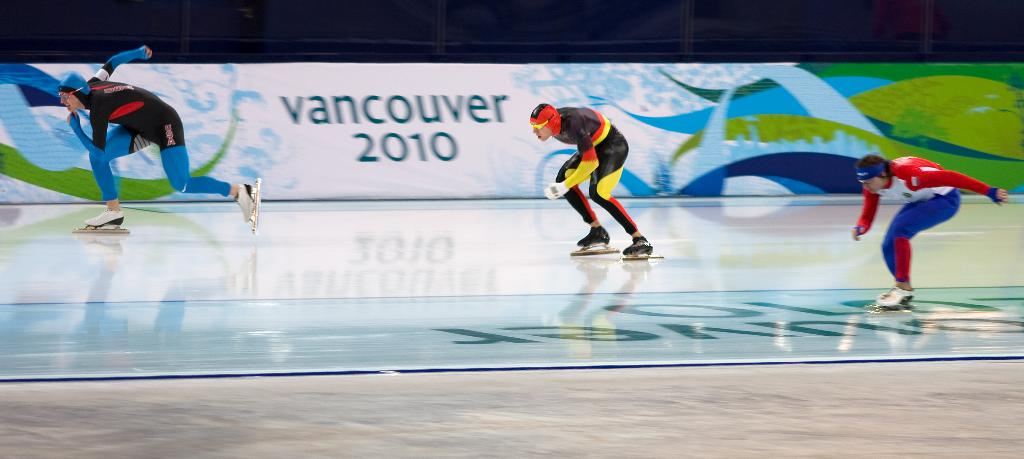Person: (58, 45, 253, 227), (852, 153, 1008, 306), (529, 103, 653, 255)
